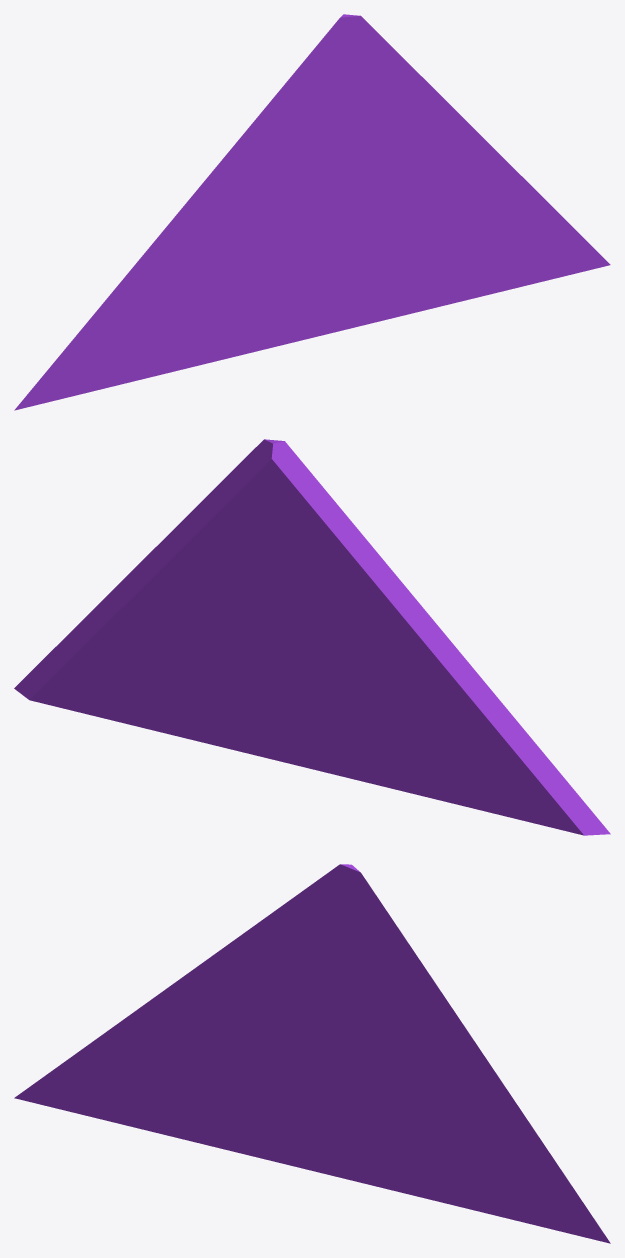
File: Glass_11_1_chunks.fbx
3 renders of one model, top to bottom at view 1: azimuth 30°, elevation 25°; view 2: azimuth 150°, elevation 25°; view 3: azimuth 330°, elevation 25°, orthographic.
Visible parts, largest first — view 1: Glass_11_1_10, Glass_11_1_1, Glass_11_1_8, Glass_11_1_4, Glass_11_1_6, Glass_11_1_0, Glass_11_1_2, Glass_11_1_11, Glass_11_1_3, Glass_11_1_7, Glass_11_1_14, Glass_11_1_13 (+3 smaller); view 2: Glass_11_1_1, Glass_11_1_0, Glass_11_1_10, Glass_11_1_6, Glass_11_1_11, Glass_11_1_3, Glass_11_1_4, Glass_11_1_14, Glass_11_1_8, Glass_11_1_12, Glass_11_1_7, Glass_11_1_9 (+2 smaller); view 3: Glass_11_1_10, Glass_11_1_1, Glass_11_1_8, Glass_11_1_4, Glass_11_1_6, Glass_11_1_0, Glass_11_1_2, Glass_11_1_11, Glass_11_1_3, Glass_11_1_7, Glass_11_1_14, Glass_11_1_13 (+3 smaller).
Part boxes in pixels (bbox=[...]): Glass_11_1_10: bbox=[410, 165, 610, 295]; Glass_11_1_1: bbox=[68, 223, 297, 397]; Glass_11_1_8: bbox=[331, 36, 431, 216]; Glass_11_1_4: bbox=[208, 111, 331, 249]; Glass_11_1_6: bbox=[14, 252, 191, 410]; Glass_11_1_0: bbox=[262, 14, 379, 160]; Glass_11_1_2: bbox=[290, 237, 484, 308]; Glass_11_1_11: bbox=[379, 35, 509, 187]; Glass_11_1_3: bbox=[284, 184, 403, 254]; Glass_11_1_7: bbox=[146, 134, 243, 263]; Glass_11_1_14: bbox=[239, 283, 344, 355]; Glass_11_1_13: bbox=[264, 293, 373, 349]; Glass_11_1_1: bbox=[320, 644, 575, 833]; Glass_11_1_0: bbox=[236, 439, 367, 617]; Glass_11_1_10: bbox=[14, 588, 194, 722]; Glass_11_1_6: bbox=[417, 672, 610, 835]; Glass_11_1_11: bbox=[114, 458, 244, 624]; Glass_11_1_3: bbox=[179, 608, 341, 693]; Glass_11_1_4: bbox=[308, 535, 428, 696]; Glass_11_1_14: bbox=[252, 692, 385, 786]; Glass_11_1_8: bbox=[203, 504, 279, 622]; Glass_11_1_12: bbox=[122, 701, 261, 756]; Glass_11_1_7: bbox=[382, 558, 478, 677]; Glass_11_1_9: bbox=[184, 609, 260, 670]; Glass_11_1_10: bbox=[410, 1079, 610, 1243]; Glass_11_1_1: bbox=[67, 1042, 297, 1152]; Glass_11_1_8: bbox=[331, 902, 431, 1091]; Glass_11_1_4: bbox=[209, 920, 331, 1048]; Glass_11_1_6: bbox=[14, 1003, 191, 1110]; Glass_11_1_0: bbox=[262, 864, 379, 1002]; Glass_11_1_2: bbox=[290, 1080, 484, 1212]; Glass_11_1_11: bbox=[379, 901, 510, 1094]; Glass_11_1_3: bbox=[284, 1026, 403, 1115]; Glass_11_1_7: bbox=[146, 933, 243, 1037]; Glass_11_1_14: bbox=[239, 1106, 344, 1158]; Glass_11_1_13: bbox=[264, 1143, 373, 1185].
Size of the model in its own units: 1146 by 575 by 27.2.
